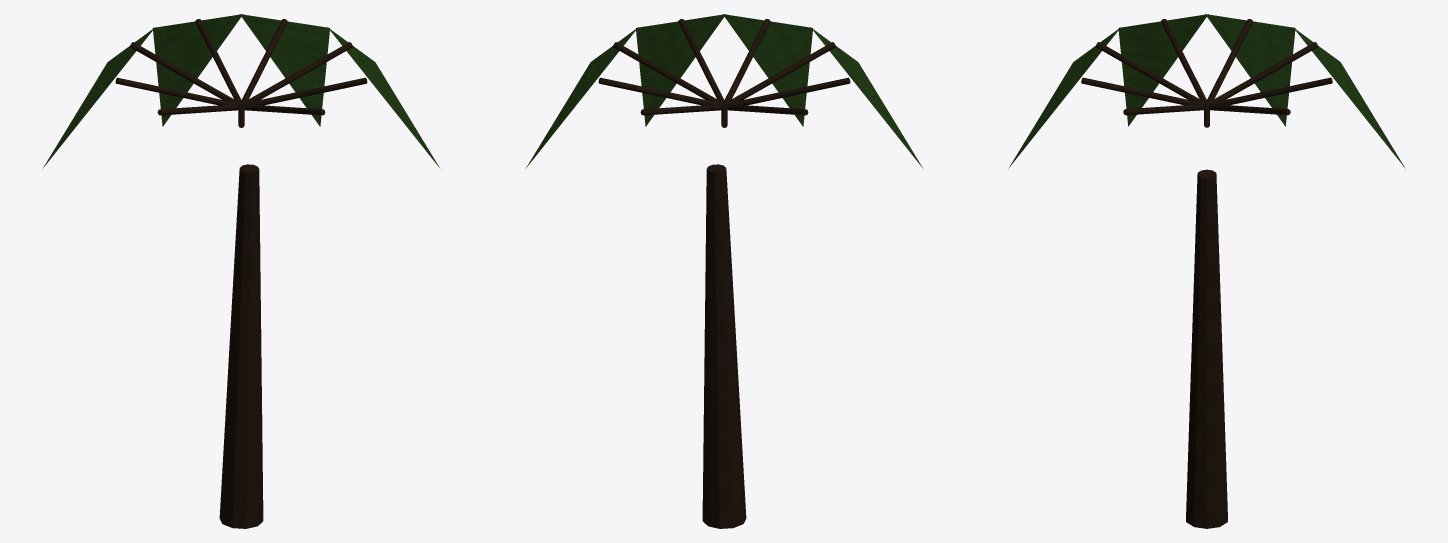
Rendered from PROP-8D9AC08D491F_lod1.glb.
The picture shows the model from 3 angles, left to right: view 1: azimuth 30°, elevation 25°; view 2: azimuth 150°, elevation 25°; view 3: azimuth 270°, elevation 25°; orthographic projection.
Parts seen in each view (by area): view 1: trunk.024, palm_frond.002, palm_frond_spine.002; view 2: trunk.024, palm_frond.002, palm_frond_spine.002; view 3: trunk.024, palm_frond.002, palm_frond_spine.002.
Part boxes in pixels (left/top/right/bottom): trunk.024: left=219, top=164, right=263, bottom=528; palm_frond.002: left=43, top=14, right=439, bottom=167; palm_frond_spine.002: left=115, top=19, right=367, bottom=127; trunk.024: left=702, top=164, right=746, bottom=528; palm_frond.002: left=526, top=14, right=922, bottom=167; palm_frond_spine.002: left=598, top=19, right=850, bottom=127; trunk.024: left=1186, top=169, right=1227, bottom=528; palm_frond.002: left=1008, top=14, right=1405, bottom=168; palm_frond_spine.002: left=1081, top=19, right=1332, bottom=127.
Bounding box in the file's own units: 4.85 × 5.41 × 4.93.
Materials: 2 (2 with a texture image).
